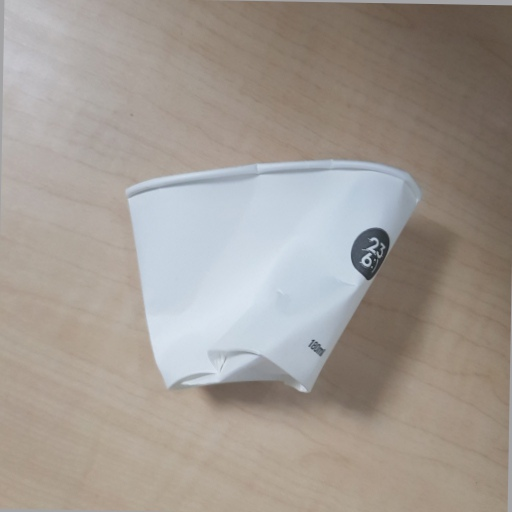Paper_1: (118, 154, 419, 401)
